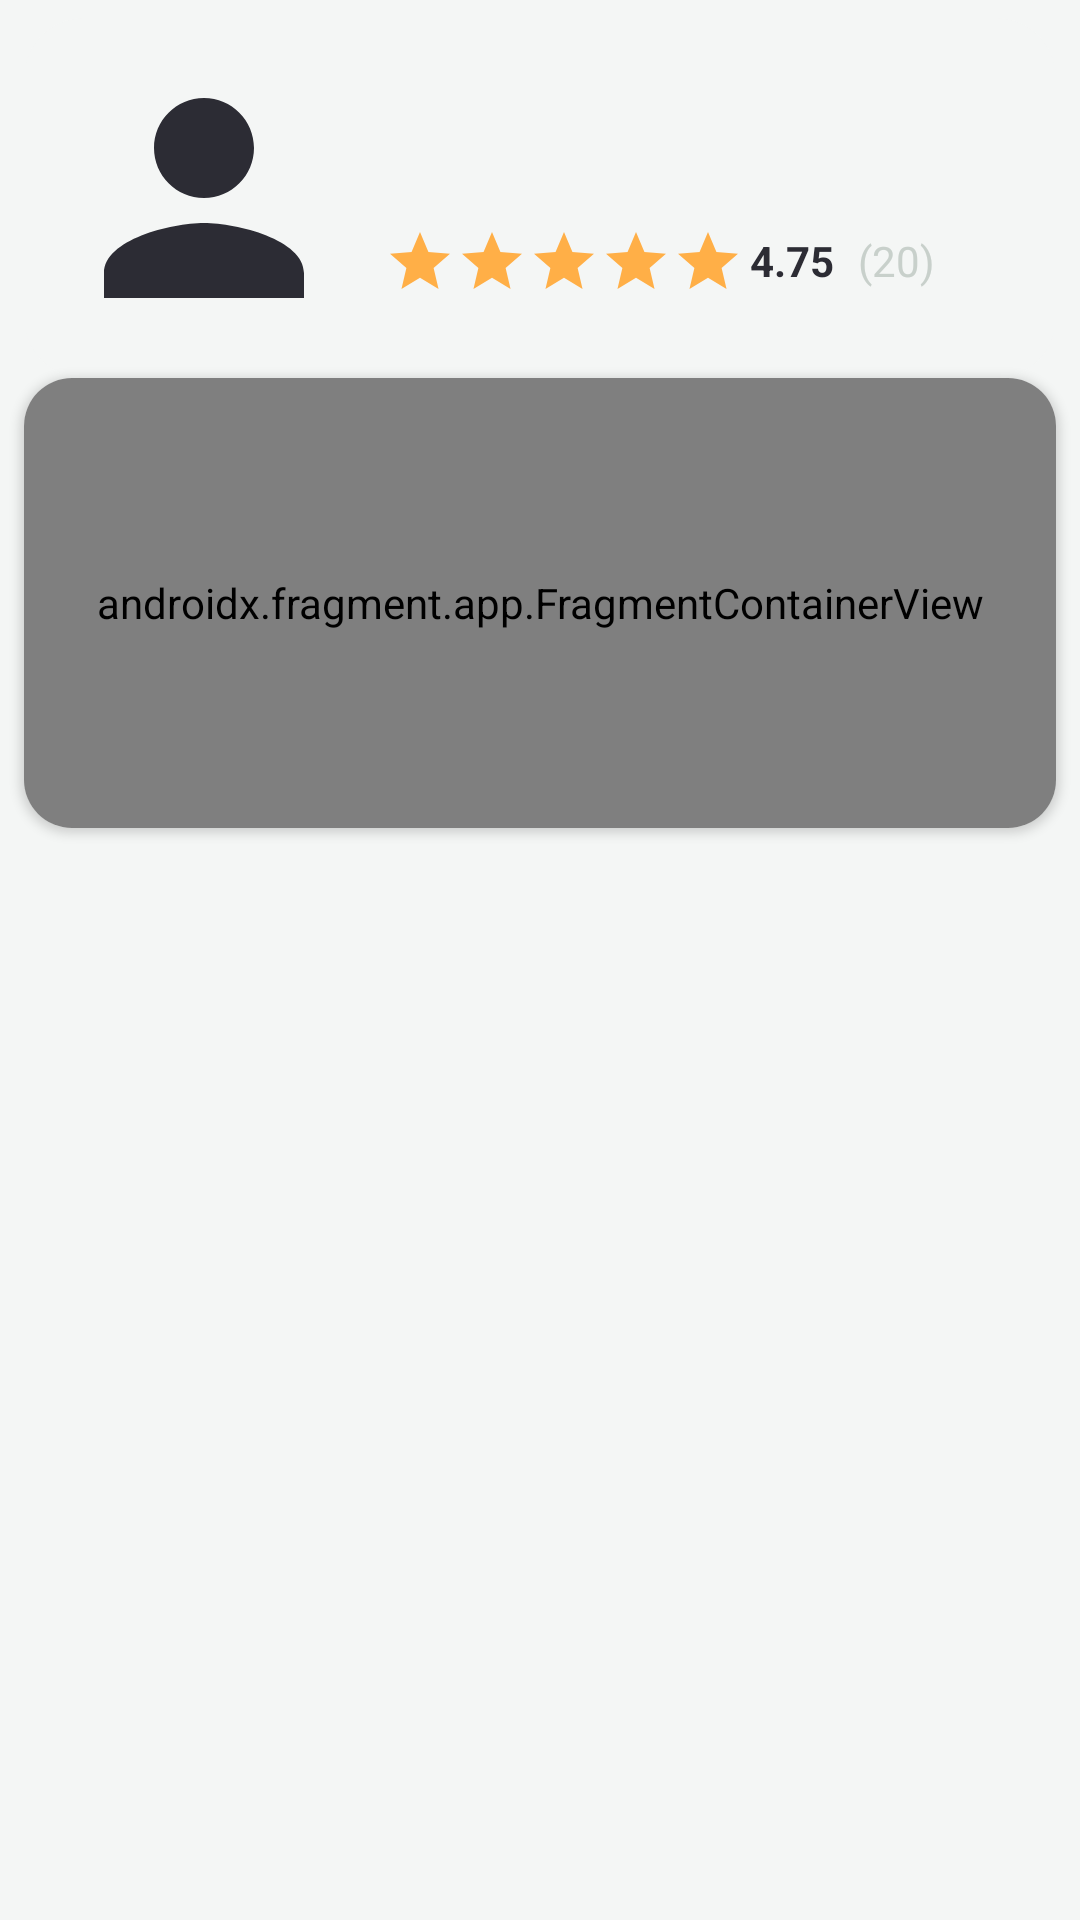

Icon click points for this 1080w x 1920h phone screenshot, format (x,y):
star: (420,260), (492,260), (564,260), (636,260), (708,260)
